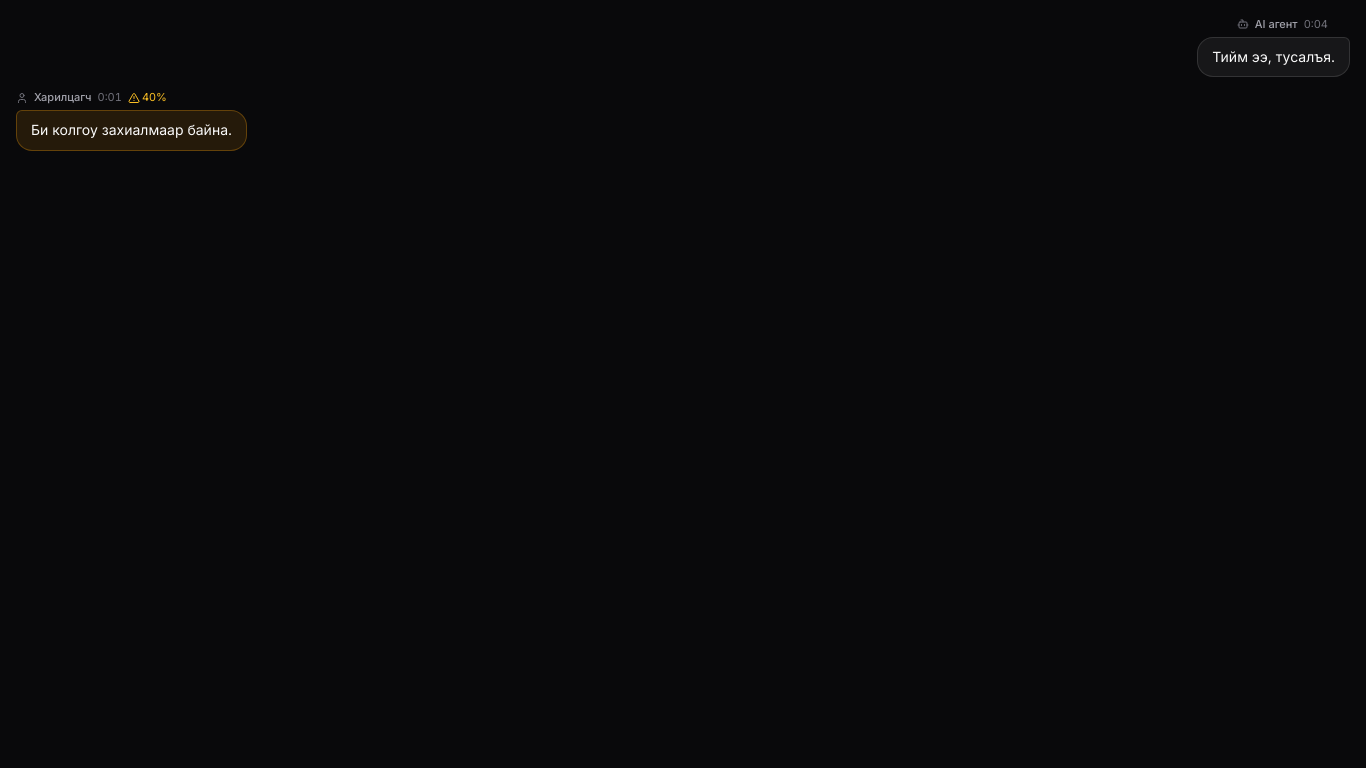
Test: Transcript › strips punctuation from the clicked word
Click the button "байна." at (210, 130), box left=186, top=119, right=233, bottom=142
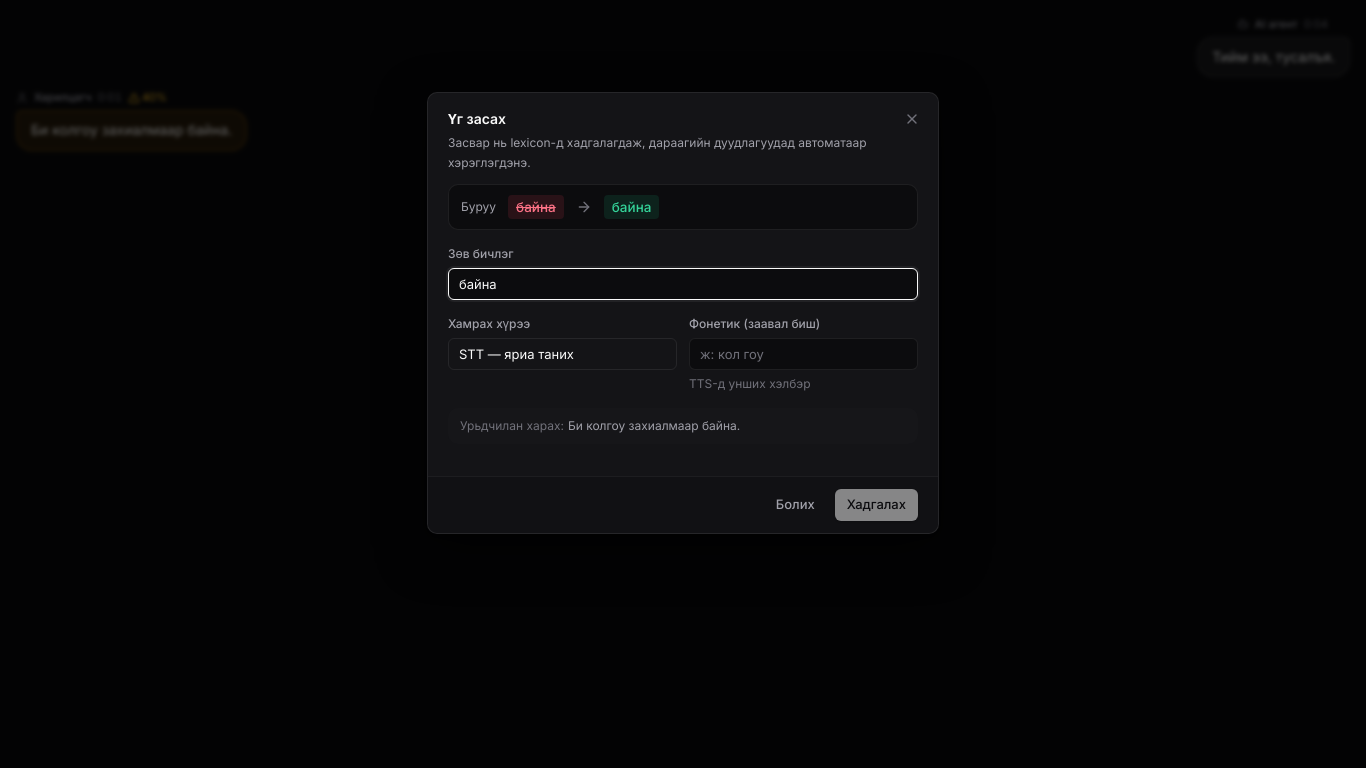
expect the text with test id "wrong-word" reads "байна": met, box left=516, top=199, right=556, bottom=215
